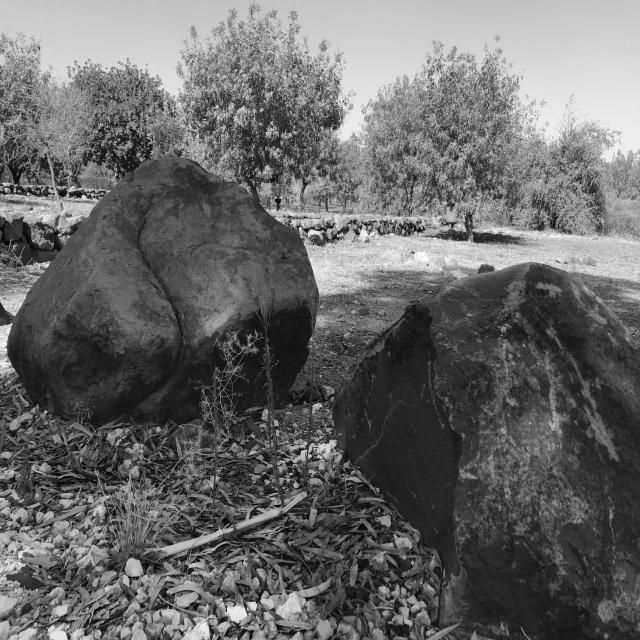Stone: (334, 264, 640, 640), (8, 159, 318, 421)
